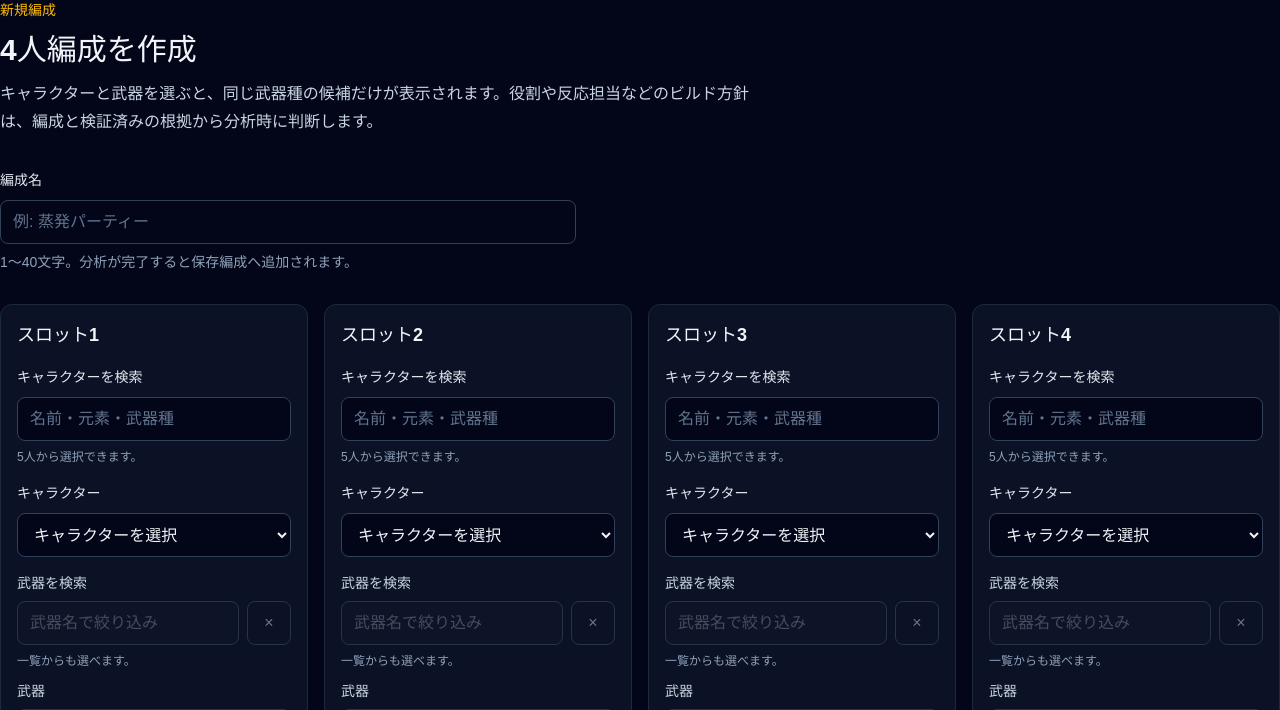
Test: PartyBuilder › 名前・元素・武器種でキャラクター候補を検索できる
Type "雷" into the 1st search field labelled "キャラクターを検索".
click(154, 419); type("雷")  # box [17, 397, 291, 441]
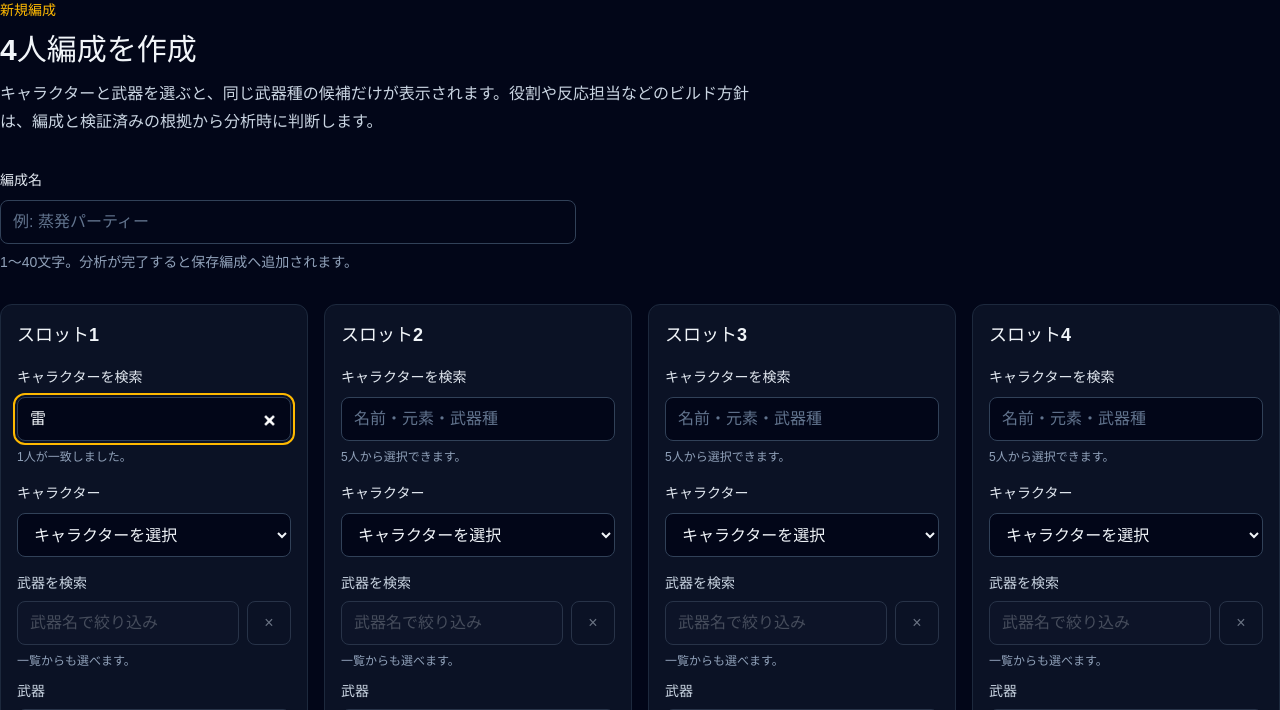
Expected: the text "1人が一致しました。" is shown, [17, 450, 132, 464]
Select "弓キャラ（雷・弓）" in the dropdown labelled "キャラクター" below "1人が一致しました。" at (154, 535), box [17, 513, 291, 557]
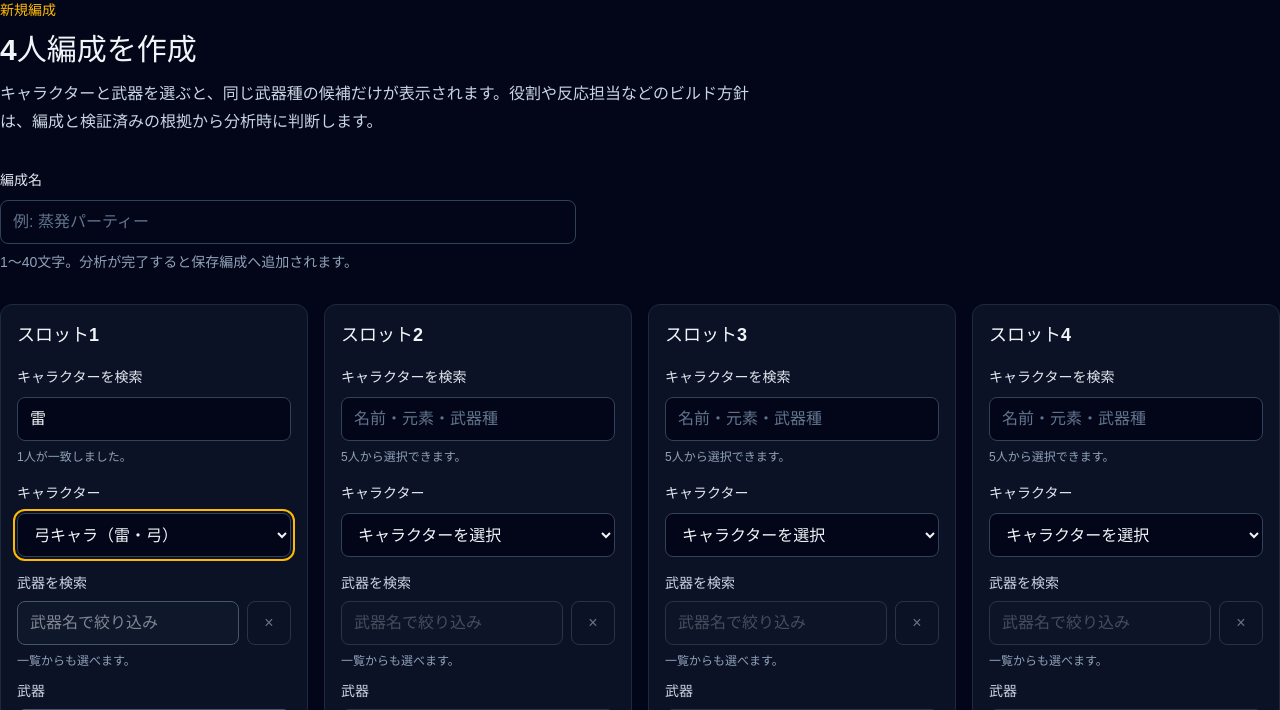
Replace the text in the 1st search field labelled "キャラクターを検索" with "存在しない名前" at (154, 419), box [17, 397, 291, 441]
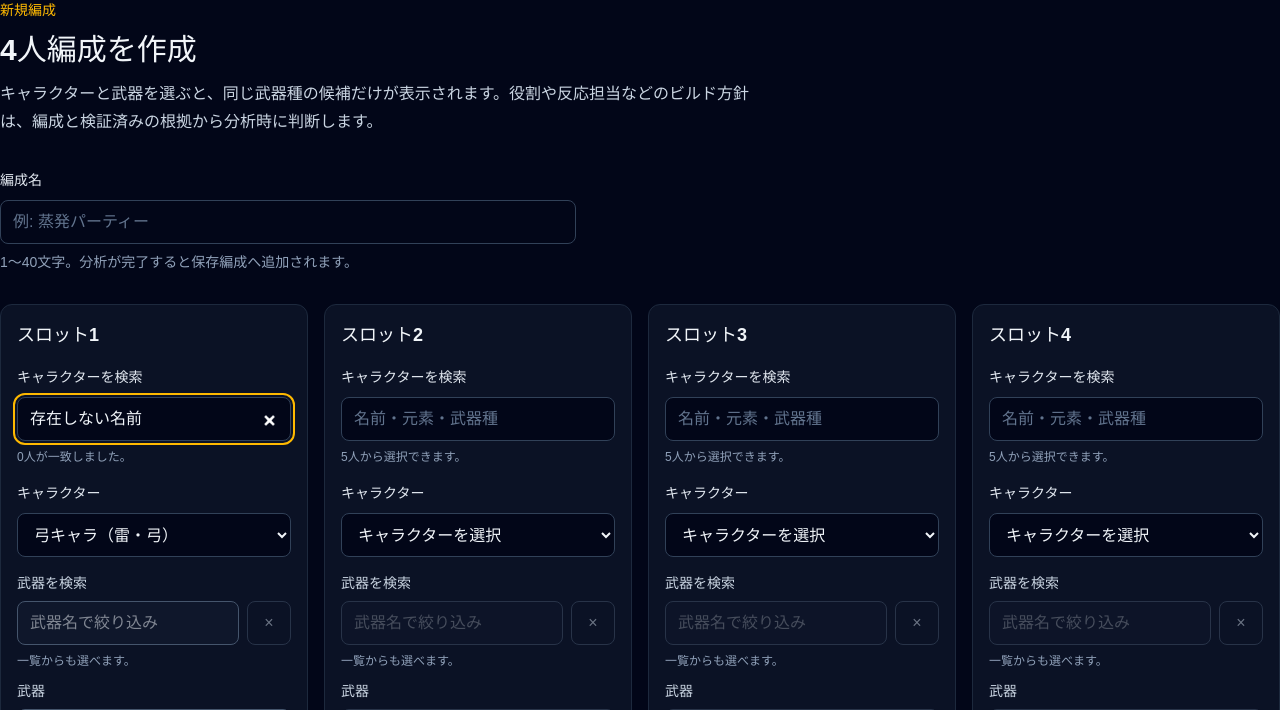
Expected: the text "0人が一致しました。" is shown, [17, 450, 132, 464]
